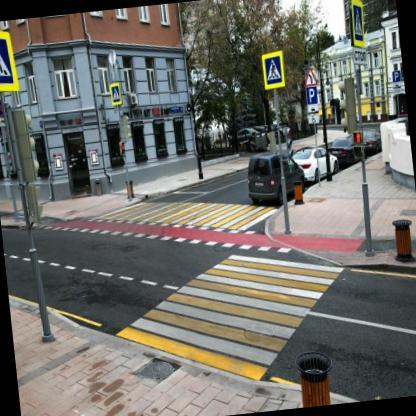obstructed_road_sign: (0, 31, 20, 92)
off traffic light: (13, 112, 41, 183), (25, 185, 43, 220), (265, 131, 276, 156)
road_sign: (262, 50, 285, 90), (351, 0, 365, 47), (110, 82, 123, 107), (353, 48, 366, 65), (305, 68, 317, 86), (306, 88, 317, 104), (307, 104, 319, 113), (308, 115, 320, 124), (392, 71, 401, 83)
traffic light: (351, 132, 365, 159), (284, 127, 293, 158), (119, 142, 125, 155)
